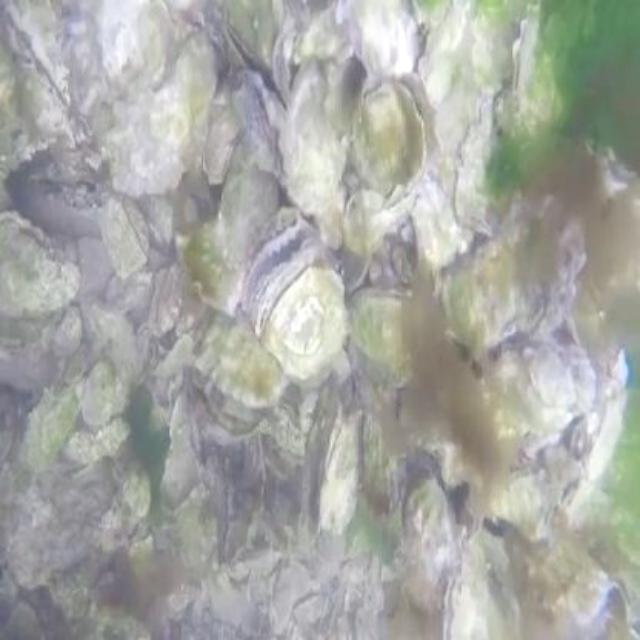Oyster-Closed: (439, 199, 586, 346), (109, 31, 216, 199), (176, 144, 284, 310), (0, 0, 70, 171), (286, 55, 347, 216), (455, 91, 516, 231), (22, 364, 91, 477), (400, 480, 459, 612), (338, 0, 418, 78), (442, 533, 499, 638), (512, 2, 560, 121), (350, 286, 420, 366), (322, 408, 363, 532), (485, 471, 556, 539), (101, 192, 150, 276), (495, 83, 556, 143), (585, 390, 625, 481), (201, 109, 240, 184), (106, 258, 151, 320), (531, 347, 576, 408), (149, 261, 183, 331), (82, 359, 113, 423), (52, 309, 83, 359), (128, 533, 155, 562)
Oyster-Open: (243, 211, 349, 379), (196, 303, 286, 440), (352, 69, 439, 191), (0, 209, 81, 322), (232, 69, 293, 185), (224, 0, 284, 107), (546, 446, 584, 503), (560, 416, 589, 461)
